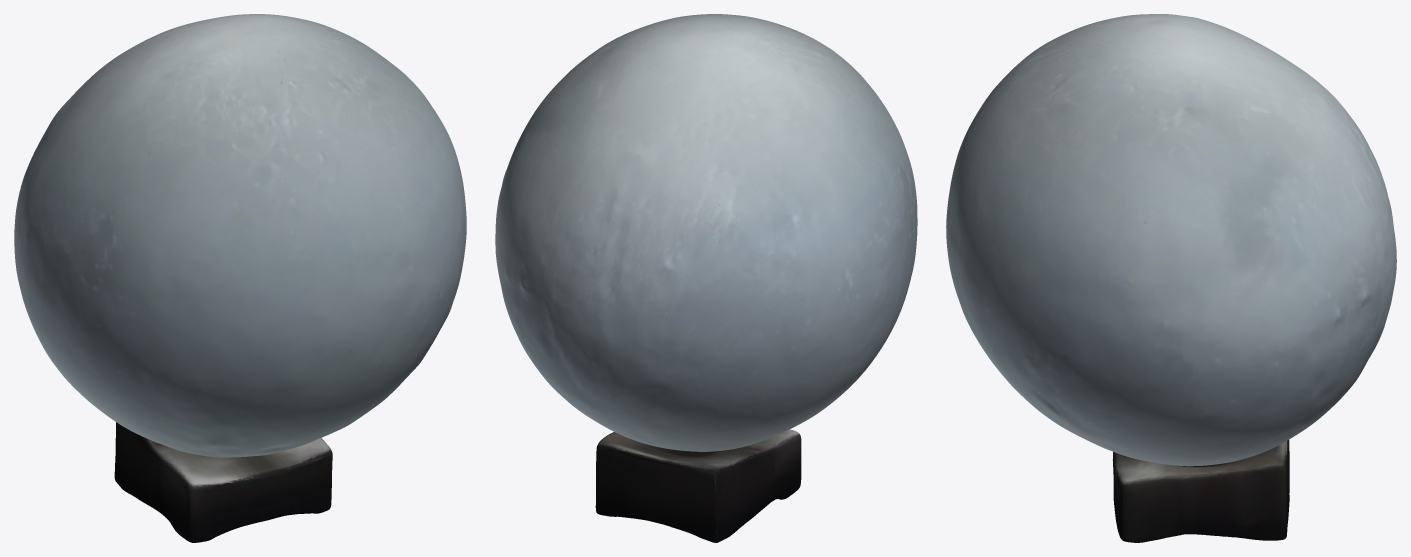
Rendered from moon_weight.glb.
The picture shows the model from 3 angles, left to right: view 1: azimuth 30°, elevation 25°; view 2: azimuth 150°, elevation 25°; view 3: azimuth 270°, elevation 25°; orthographic projection. The views are drawn at different scales.
Parts seen in each view (by area): view 1: geometry_0; view 2: geometry_0; view 3: geometry_0.
Boxes of the visible parts, x1,y1,x2,y2 form: geometry_0: (14, 14, 466, 542); geometry_0: (495, 14, 917, 542); geometry_0: (946, 14, 1396, 542).
Size of the model in its own units: 0.8462 by 1 by 0.8527.
1 material, 1 textured.
